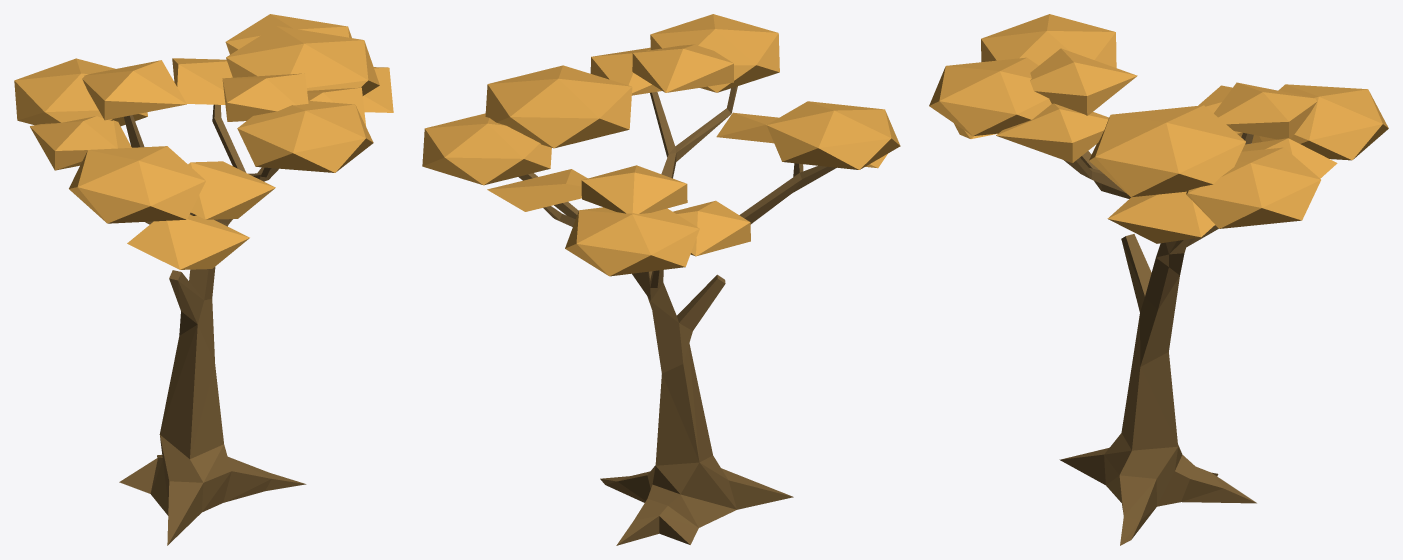
File: Tree_Dry_B_02.fbx
3 renders of one model, left to right at view 1: azimuth 30°, elevation 25°; view 2: azimuth 150°, elevation 25°; view 3: azimuth 270°, elevation 25°, orthographic. The views are drawn at different scales.
Parts seen in each view (by area): view 1: Tree_Dry_B_02.001; view 2: Tree_Dry_B_02.001; view 3: Tree_Dry_B_02.001.
Boxes of the visible parts, <box> form: Tree_Dry_B_02.001: <box>14,14,393,545</box>; Tree_Dry_B_02.001: <box>422,14,900,545</box>; Tree_Dry_B_02.001: <box>929,14,1388,545</box>.
Bounding box in the file's own units: 428 × 465 × 428.
